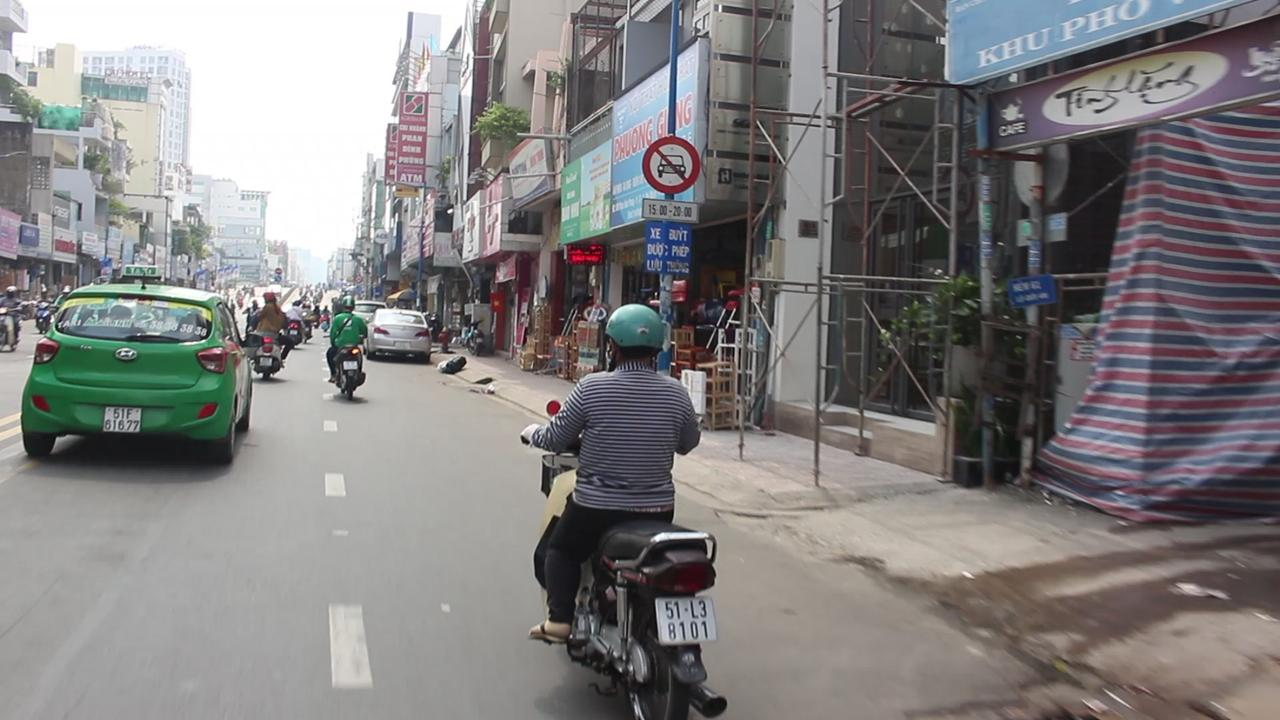P.104: (640, 134, 701, 192)
